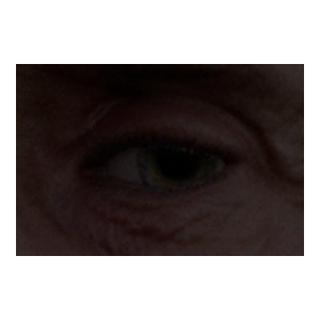pupil: (159, 142, 196, 179)
